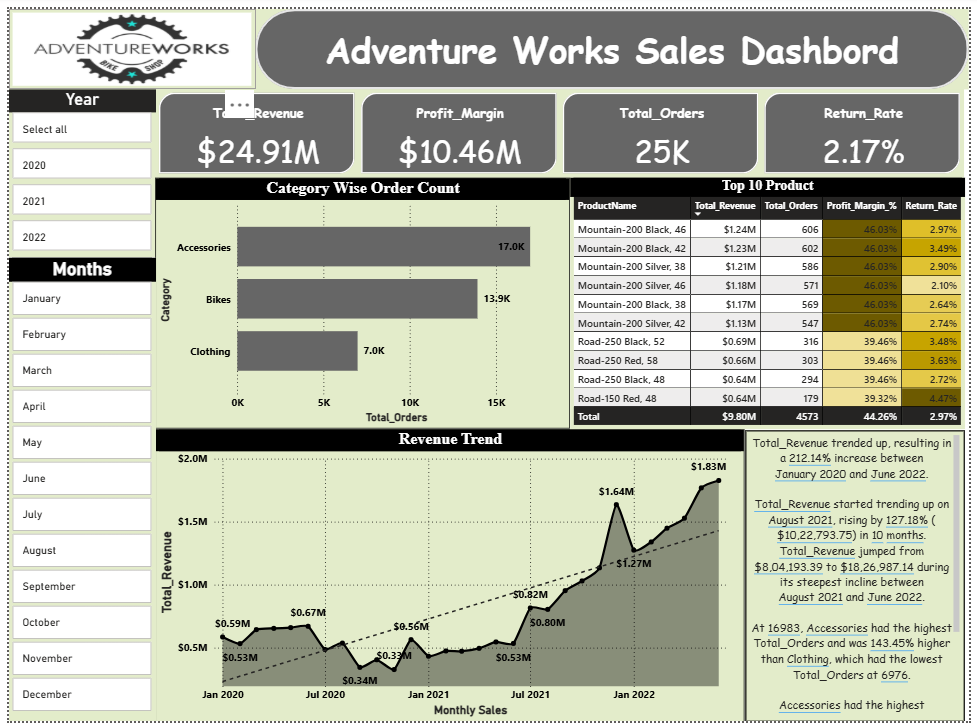

What the dashboard file says about the page in this screenshot:
{"tool":"powerbi","page":{"name":" Dashboard","canvas":[1280,950],"ordinal":5},"visuals":[{"type":"cardVisual","fields":{"Data":["Measure_Table.Total_Revenue","Measure_Table.Profit_Margin","Measure_Table.Total_Orders","Measure_Table.Return_Rate"]},"box":[195.7,107.1,1078.6,118.6],"z":0},{"type":"shape","box":[328.6,0,951.4,107.1],"z":1000},{"type":"advancedSlicerVisual","fields":{"Values":["Calendar Lookup.Date.Variation.Date Hierarchy.Year"]},"box":[0,107.1,195.7,224.3],"z":2000},{"type":"clusteredBarChart","title":"Category Wise Order Count","fields":{"Category":["Product Categories Lookup.CategoryName"],"Y":["Measure_Table.Total_Orders"]},"box":[195.7,225.7,552.9,334.3],"z":3000},{"type":"lineChart","title":"Revenue Trend","fields":{"Y":["Measure_Table.Total_Revenue"],"Category":["Calendar Lookup.Date.Variation.Date Hierarchy.Year","Calendar Lookup.Date.Variation.Date Hierarchy.Month"]},"box":[195.7,560,785.7,390],"z":4000},{"type":"pivotTable","title":"Top 10 Product","fields":{"Rows":["Product Lookup.ProductName"],"Values":["Measure_Table.Total_Revenue","Measure_Table.Total_Orders","Measure_Table.Profit_Margin_%","Measure_Table.Return_Rate"]},"box":[748.6,225.7,526,335],"z":5000},{"type":"image","box":[0,0,328.6,107.1],"z":6000},{"type":"advancedSlicerVisual","title":"Months","fields":{"Values":["Calendar Lookup.Date.Variation.Date Hierarchy.Month"]},"box":[0,331.4,195.7,618.6],"z":7000},{"type":"textbox","box":[981.4,561.4,292.9,388.6],"z":8000}]}

Visuals, with their boxes in screenshot pixels (x1, y1, x2, y2), scaled from the page's 1280x950 canvas onto the 977x727 screenshot:
cardVisual - Measure_Table.Total_Revenue x Measure_Table.Profit_Margin: <box>149,82,973,173</box>
shape: <box>251,0,976,82</box>
advancedSlicerVisual - Calendar Lookup.Date.Variation.Date Hierarchy.Year: <box>0,82,149,254</box>
"Category Wise Order Count" clusteredBarChart: <box>149,173,571,429</box>
"Revenue Trend" lineChart: <box>149,429,749,726</box>
"Top 10 Product" pivotTable: <box>571,173,973,429</box>
image: <box>0,0,251,82</box>
"Months" advancedSlicerVisual: <box>0,254,149,726</box>
textbox: <box>749,430,973,726</box>
